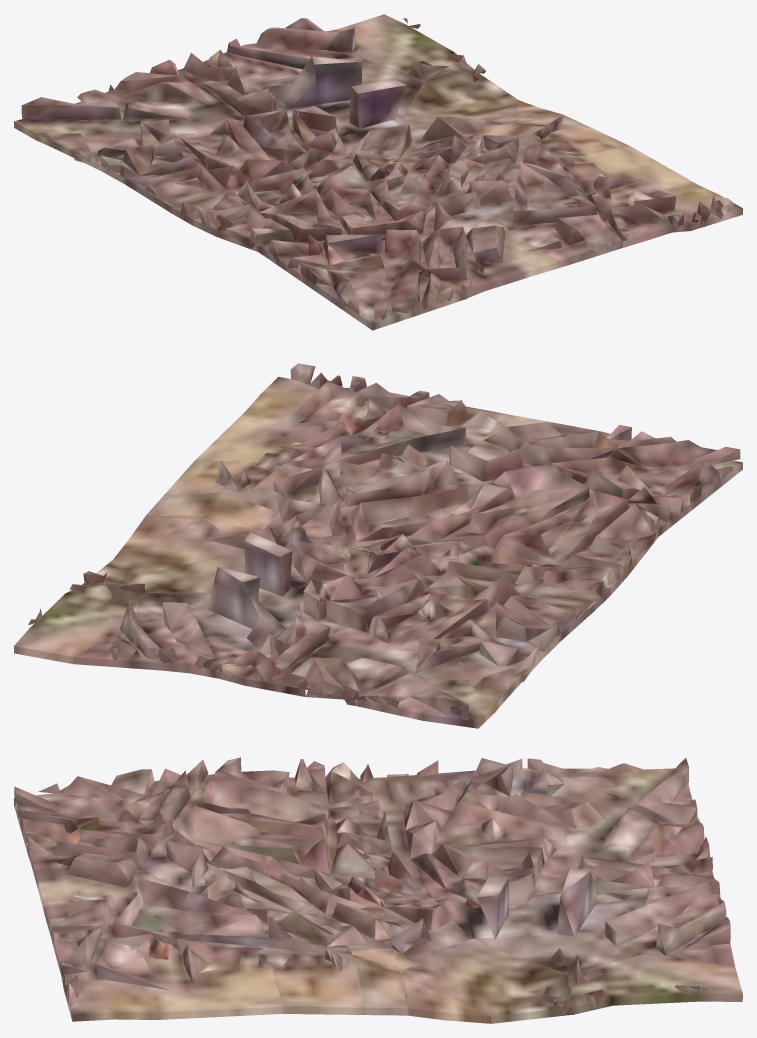
The picture shows the model from 3 angles, top to bottom: view 1: azimuth 30°, elevation 25°; view 2: azimuth 150°, elevation 25°; view 3: azimuth 270°, elevation 25°; orthographic projection. The views are drawn at different scales.
Parts seen in each view (by area): view 1: Mesh_0; view 2: Mesh_0; view 3: Mesh_0.
Part boxes in pixels (left/top/right/bottom): Mesh_0: left=14, top=14, right=742, bottom=330; Mesh_0: left=14, top=363, right=742, bottom=728; Mesh_0: left=14, top=757, right=742, bottom=1023.
Bounding box in the file's own units: 532 × 64.27 × 659.
Materials: 2 (2 with a texture image).
